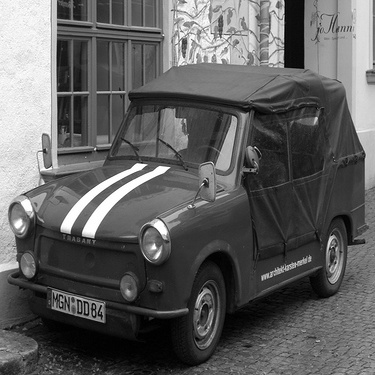car: (1, 57, 370, 367)
